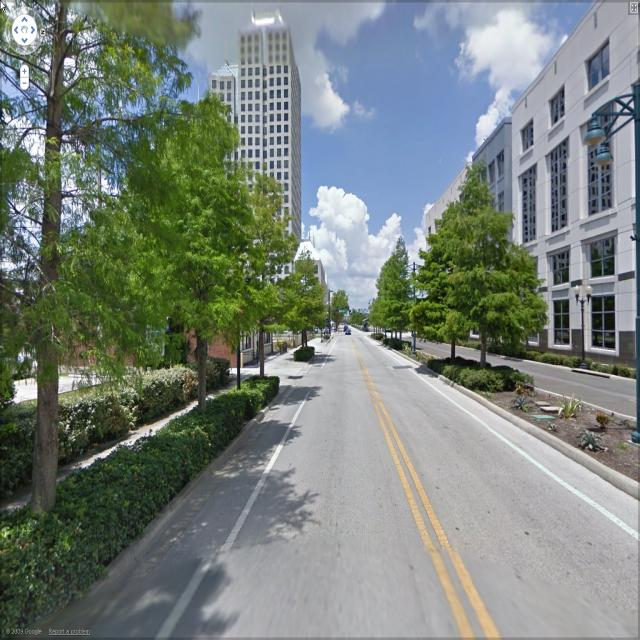b_1: (535, 1, 640, 378)
b_2: (191, 13, 303, 339), (28, 281, 278, 382), (471, 126, 521, 338), (415, 162, 479, 322), (274, 228, 334, 338)
